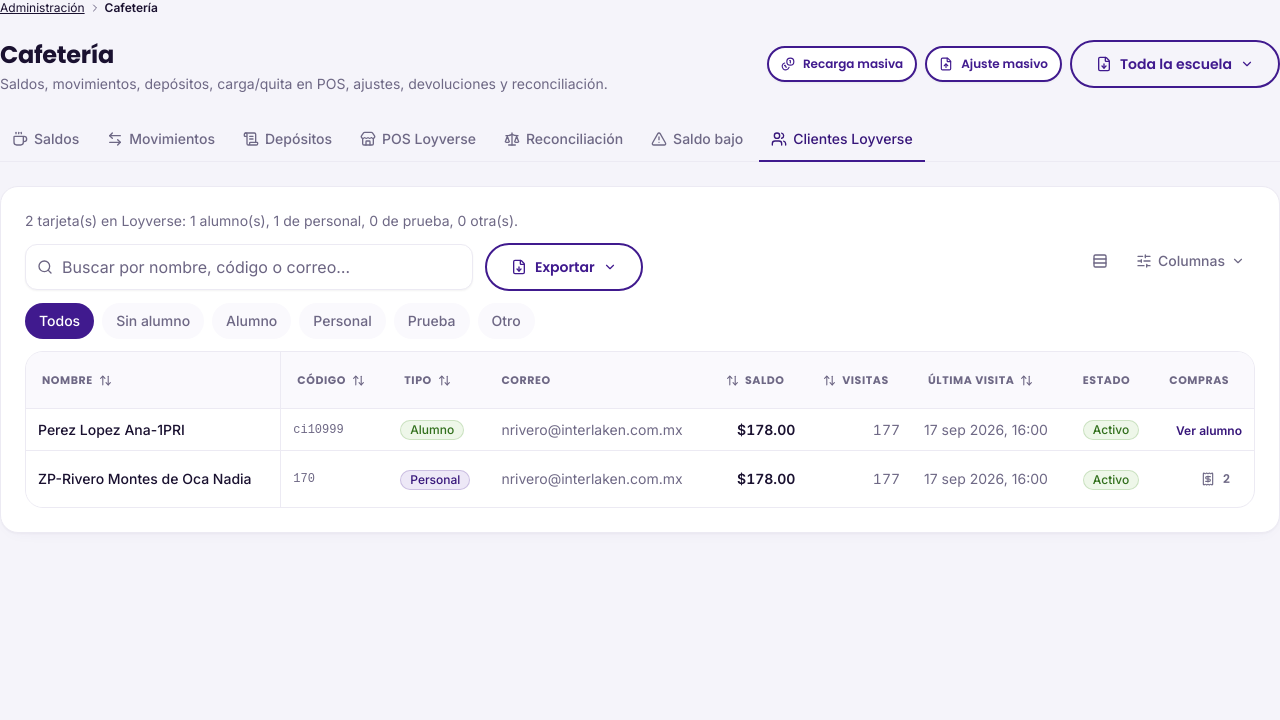
Test: AdminCafeteria Clientes Loyverse tab (every card, not only pupils) › opens the receipts of a staff card
Click the button named "Ver compras de ZP-Rivero" at (1216, 479), box [1189,461,1242,497]
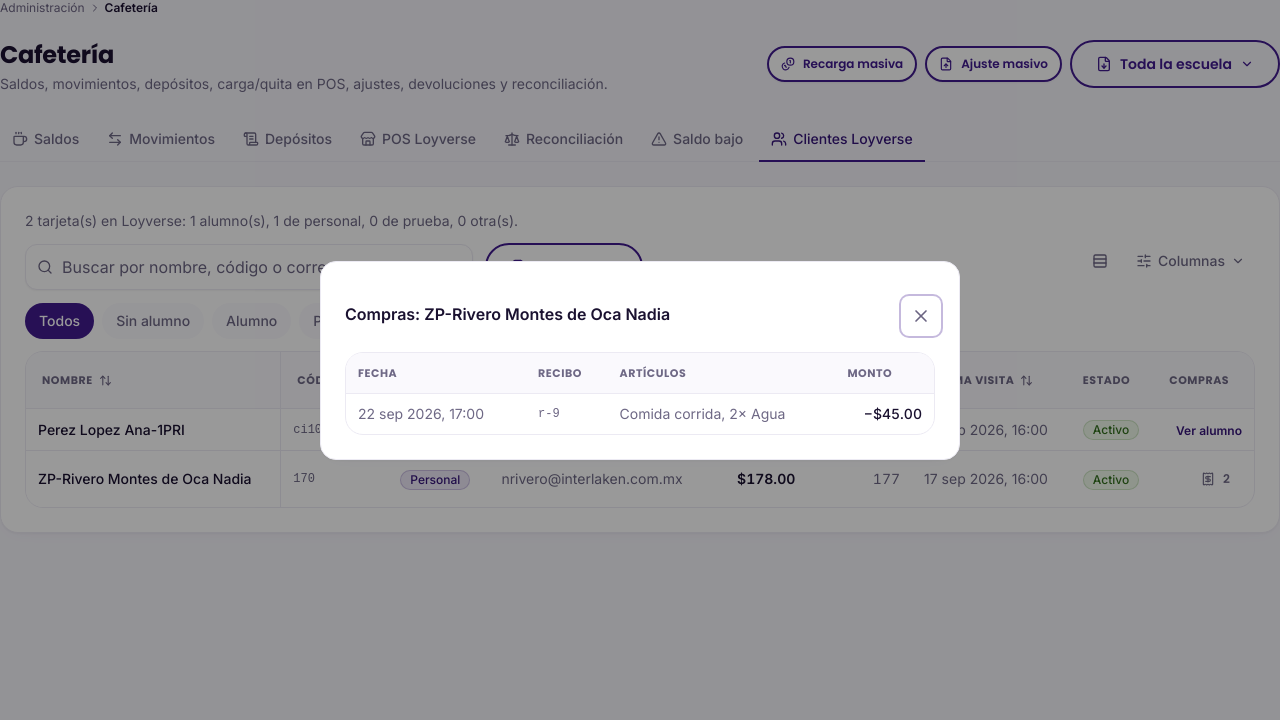
Expected: the text "Comida corrida, 2× Agua" is shown, [608,393,835,434]
